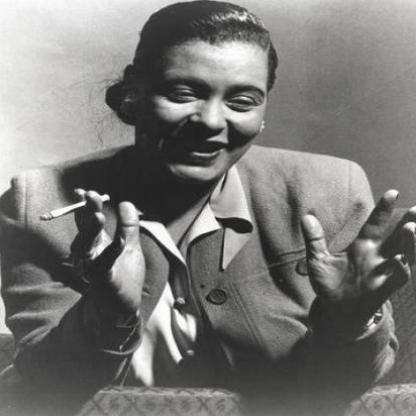cigarette: (37, 193, 111, 224)
person: (0, 0, 397, 415)
